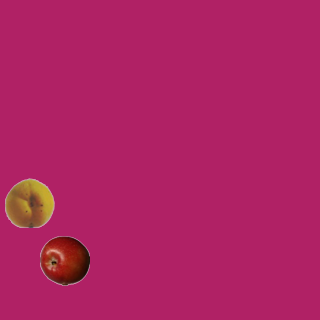Apple Braeburn: (39, 235, 89, 285)
Peach 2: (4, 177, 54, 227)
